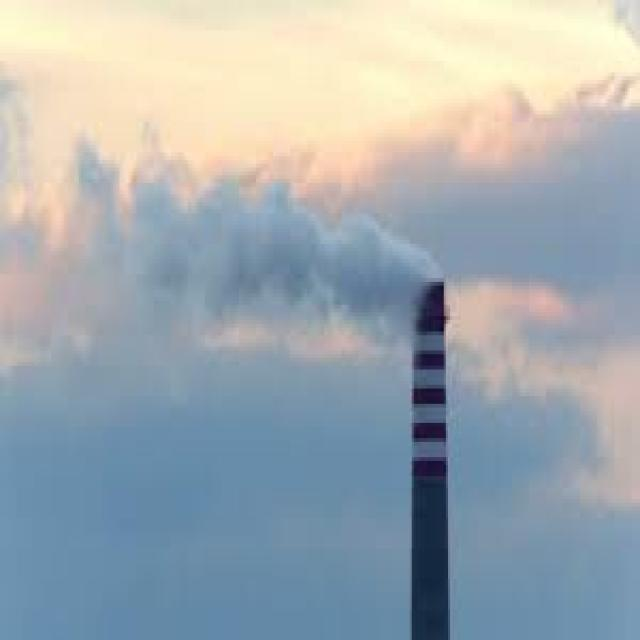Smoke: (0, 76, 443, 348)
